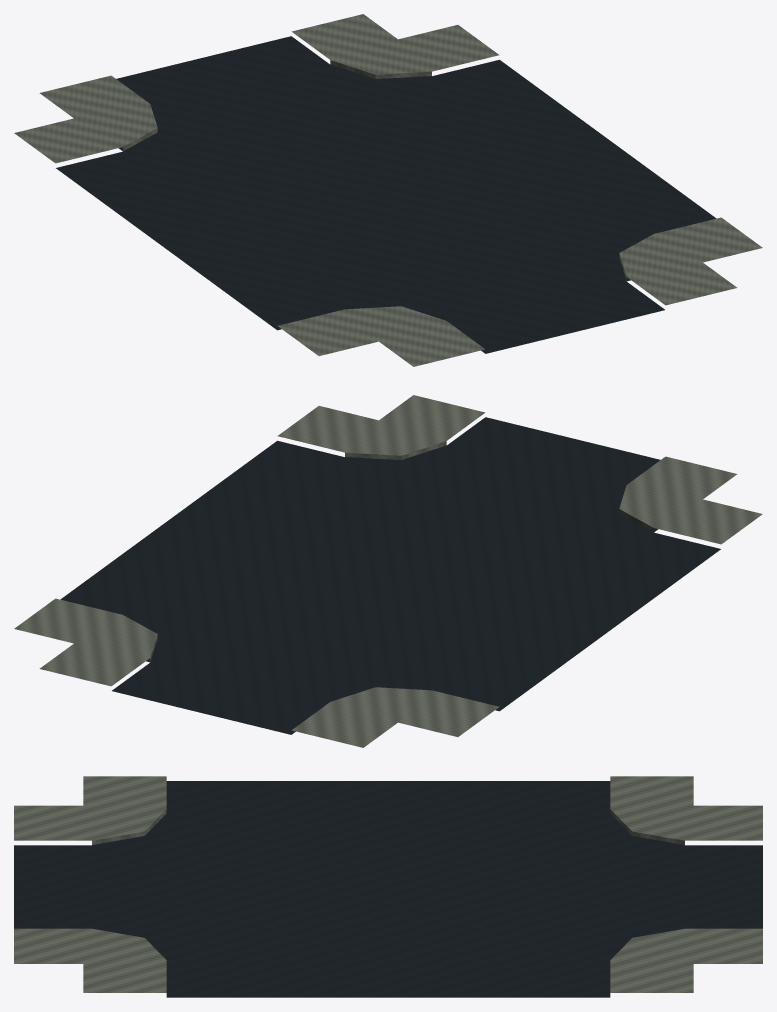
Rendered from junc_cross_4x2_ShadowProxy.glb.
3 views of the same model, one above another, from view 1: azimuth 30°, elevation 25°; view 2: azimuth 150°, elevation 25°; view 3: azimuth 270°, elevation 25° (orthographic).
Parts seen in each view (by area): view 1: junc_cross_4x2__surface.003, junc_cross_4x2__rounded_corner_curb.003; view 2: junc_cross_4x2__surface.003, junc_cross_4x2__rounded_corner_curb.003; view 3: junc_cross_4x2__surface.003, junc_cross_4x2__rounded_corner_curb.003.
Part boxes in pixels (x1,y1,x2,y2): junc_cross_4x2__surface.003: (56, 36, 716, 353); junc_cross_4x2__rounded_corner_curb.003: (14, 14, 762, 366); junc_cross_4x2__surface.003: (60, 417, 720, 734); junc_cross_4x2__rounded_corner_curb.003: (14, 395, 762, 747); junc_cross_4x2__surface.003: (14, 781, 762, 997); junc_cross_4x2__rounded_corner_curb.003: (14, 776, 762, 992).
Bounding box in the file's own units: 14.8 × 0.145 × 21.6.
3 materials, 3 textured.
